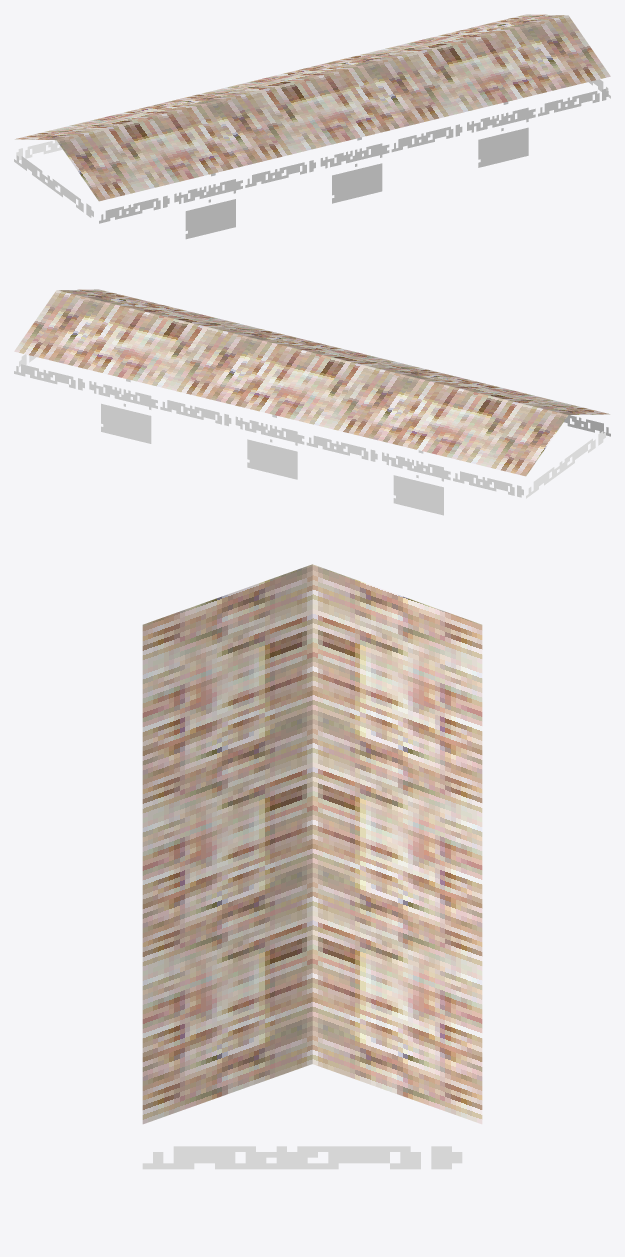
Rendered from uvmd-0130.glb.
The picture shows the model from 3 angles, top to bottom: view 1: azimuth 30°, elevation 25°; view 2: azimuth 150°, elevation 25°; view 3: azimuth 270°, elevation 25°; orthographic projection. The views are drawn at different scales.
Visible parts, largest first — view 1: uvmd-0130; view 2: uvmd-0130; view 3: uvmd-0130.
Boxes of the visible parts, box(x1,y1,x2,y2) form: uvmd-0130: box(14, 14, 610, 239); uvmd-0130: box(14, 289, 610, 515); uvmd-0130: box(142, 564, 482, 1169).
Bounding box in the file's own units: 390 × 65 × 112.
Materials: 2 (2 with a texture image).
